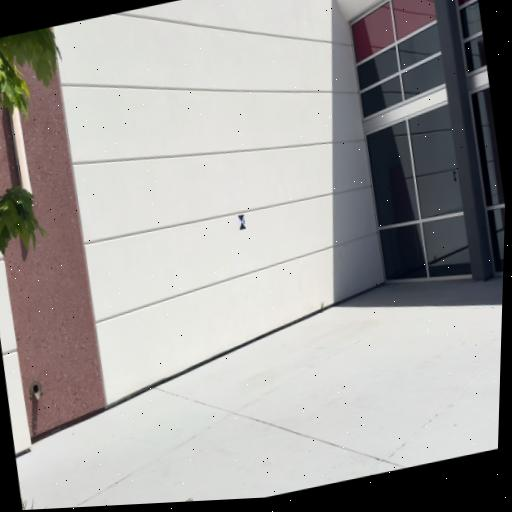target4: (236, 213, 247, 229)
